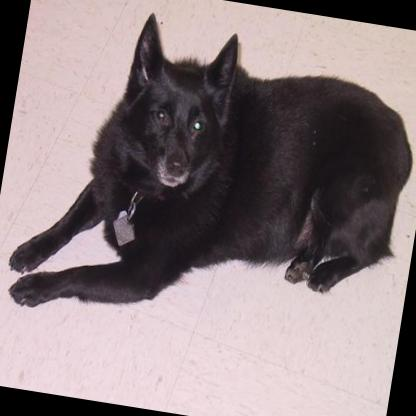schipperke: (0, 0, 416, 359)
